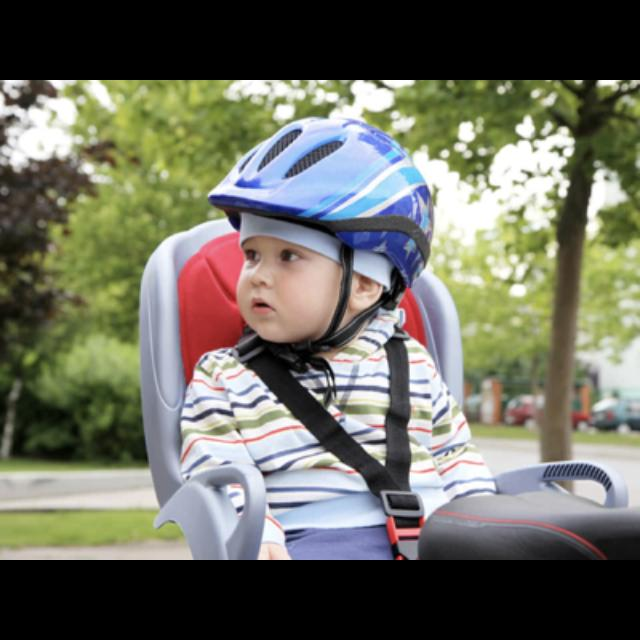With Helmet: (208, 102, 454, 348)
